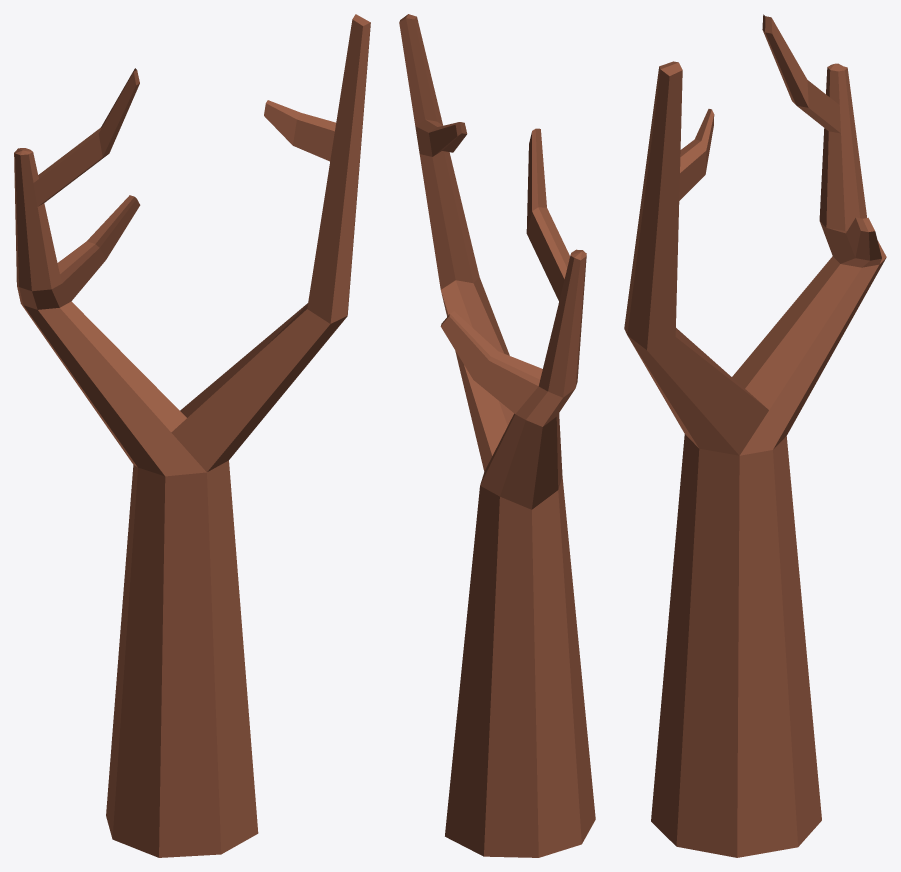
Rendered from Tree_05_spring.fbx.
3 views of the same model, side by side, from view 1: azimuth 30°, elevation 25°; view 2: azimuth 150°, elevation 25°; view 3: azimuth 270°, elevation 25° (orthographic). The views are drawn at different scales.
Parts seen in each view (by area): view 1: Tree_05_spring; view 2: Tree_05_spring; view 3: Tree_05_spring.
Boxes of the visible parts, box(x1,y1,x2,y2) form: Tree_05_spring: box(14, 14, 370, 857); Tree_05_spring: box(399, 14, 595, 857); Tree_05_spring: box(624, 14, 886, 857).
Bounding box in the file's own units: 52.44 × 144 × 41.19.
